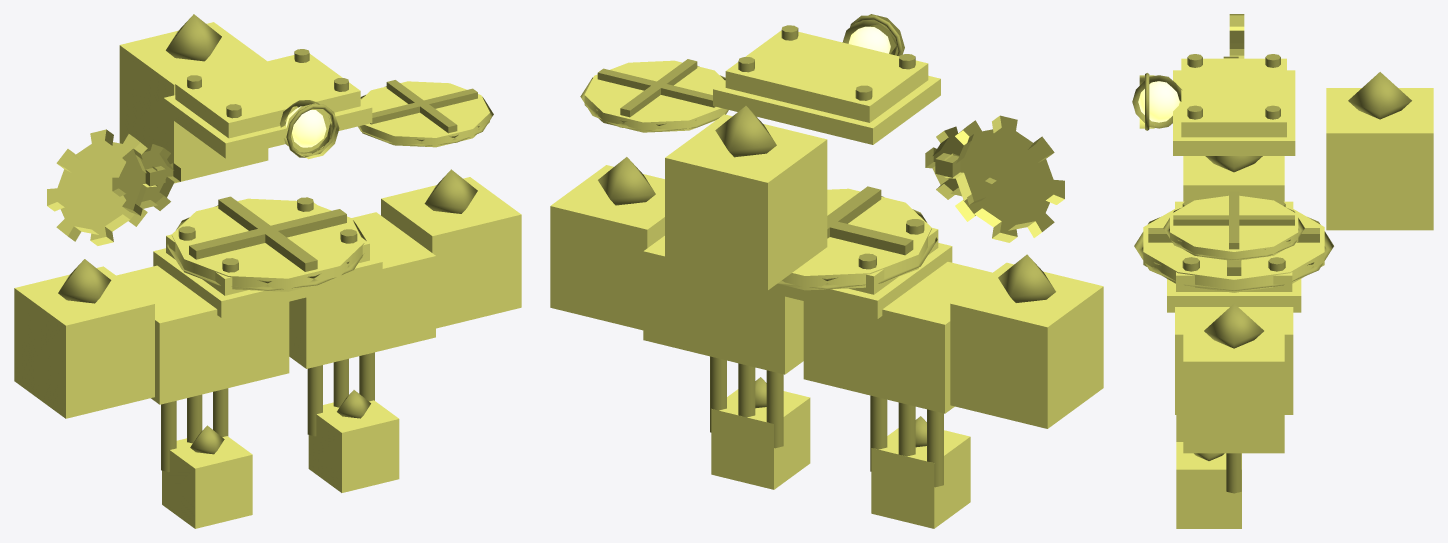
File: golem_006.glb
3 views of the same model, side by side, from view 1: azimuth 30°, elevation 25°; view 2: azimuth 150°, elevation 25°; view 3: azimuth 270°, elevation 25° (orthographic). The views are drawn at different scales.
Visible parts, largest first — view 1: Body, Detail, Glow; view 2: Body, Detail, Glow; view 3: Body, Detail, Glow.
Boxes of the visible parts, x1,y1,x2,y2 form: Body: [14, 22, 521, 528]; Detail: [58, 14, 493, 472]; Glow: [285, 106, 326, 147]; Body: [550, 14, 1103, 528]; Detail: [580, 15, 1055, 487]; Glow: [848, 26, 890, 53]; Body: [1139, 14, 1433, 528]; Detail: [1132, 54, 1411, 493]; Glow: [1138, 81, 1179, 122].
Bounding box in the file's own units: 1.26 × 1.09 × 0.7301.
